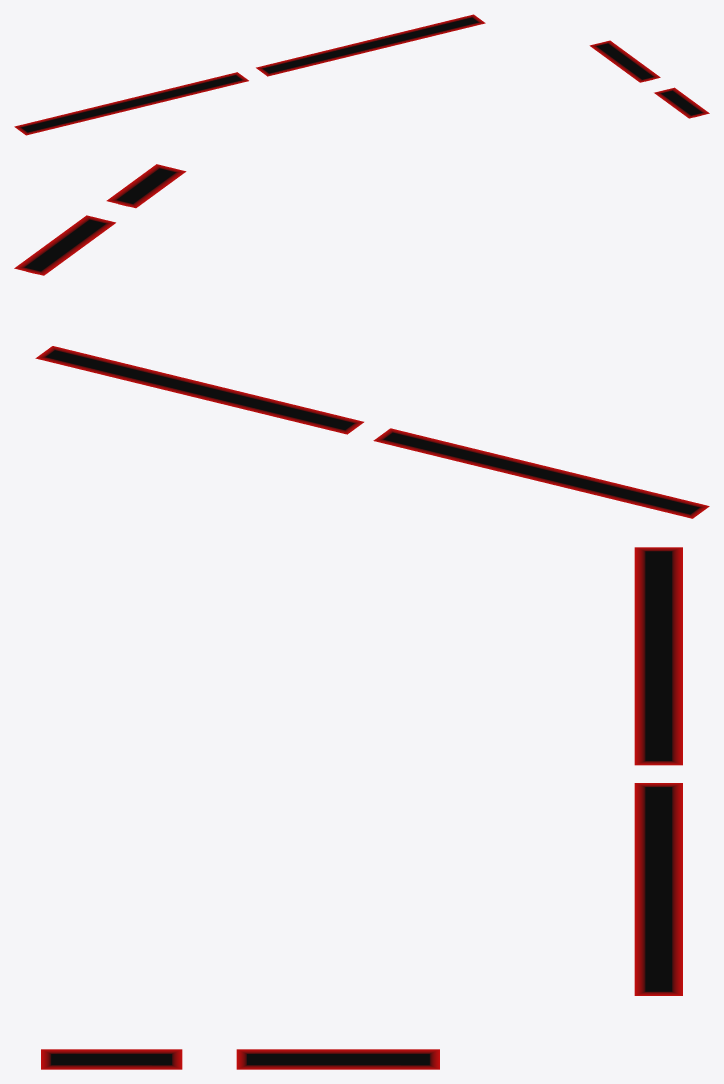
The model's file is NBSS_Water_Parts.fbx.
3 renders of one model, top to bottom at view 1: azimuth 30°, elevation 25°; view 2: azimuth 150°, elevation 25°; view 3: azimuth 270°, elevation 25°, orthographic. The views are drawn at different scales.
Visible parts, largest first — view 1: NBSS_01_Water_LV2, NBSS_00_Water_LV2, NBSS_02_Water_LV2, NBSS_03_Water_LV2; view 2: NBSS_01_Water_LV2, NBSS_00_Water_LV2, NBSS_02_Water_LV2, NBSS_03_Water_LV2; view 3: NBSS_01_Water_LV2, NBSS_00_Water_LV2, NBSS_02_Water_LV2, NBSS_03_Water_LV2.
Part boxes in pixels (left/top/right/bottom): NBSS_01_Water_LV2: left=14, top=72, right=248, bottom=135; NBSS_00_Water_LV2: left=256, top=14, right=485, bottom=76; NBSS_02_Water_LV2: left=589, top=40, right=660, bottom=82; NBSS_03_Water_LV2: left=654, top=87, right=709, bottom=118; NBSS_01_Water_LV2: left=373, top=428, right=709, bottom=518; NBSS_00_Water_LV2: left=35, top=346, right=363, bottom=434; NBSS_02_Water_LV2: left=14, top=215, right=115, bottom=275; NBSS_03_Water_LV2: left=106, top=164, right=186, bottom=208; NBSS_01_Water_LV2: left=634, top=547, right=682, bottom=765; NBSS_00_Water_LV2: left=634, top=783, right=682, bottom=995; NBSS_02_Water_LV2: left=236, top=1049, right=439, bottom=1069; NBSS_03_Water_LV2: left=41, top=1049, right=182, bottom=1069.
Size of the model in its own units: 14957 by 48.32 by 7766.
